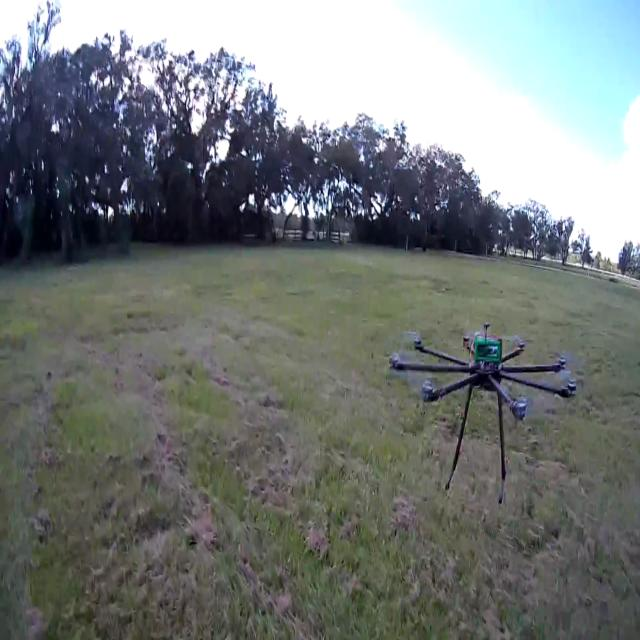drone: (368, 292, 602, 510)
